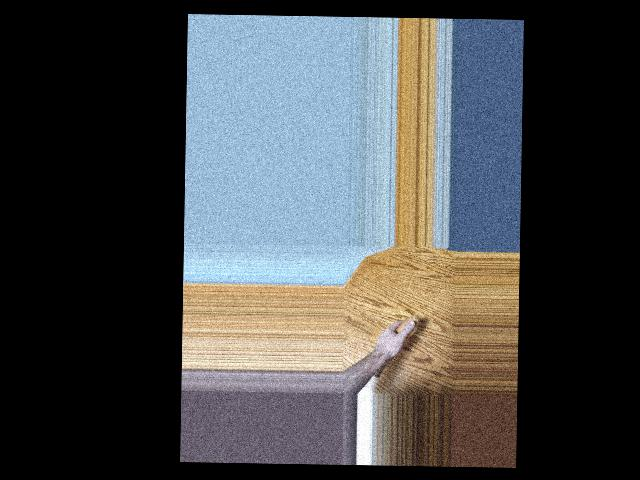sweet_potato: (373, 314, 419, 380)
